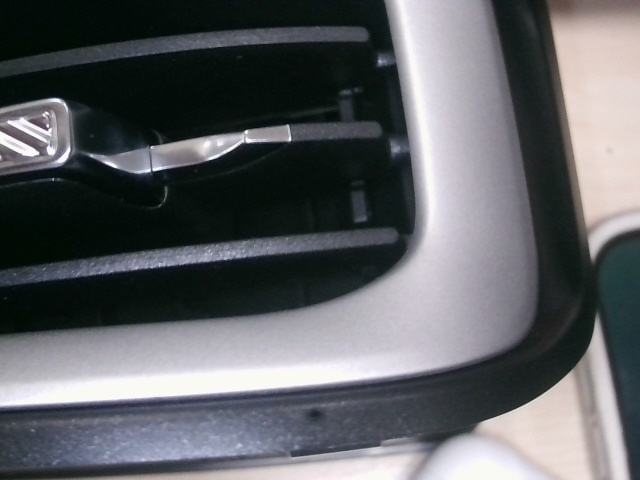NG: (393, 408, 427, 442)
